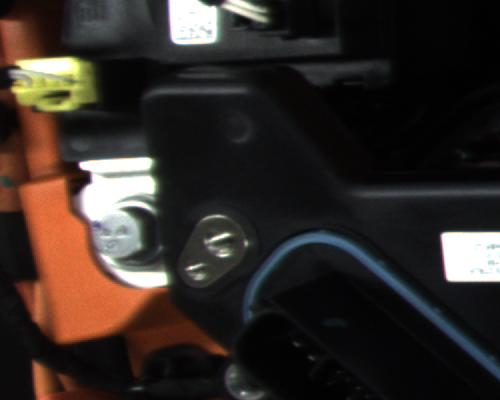nut_b: (87, 191, 162, 282)
